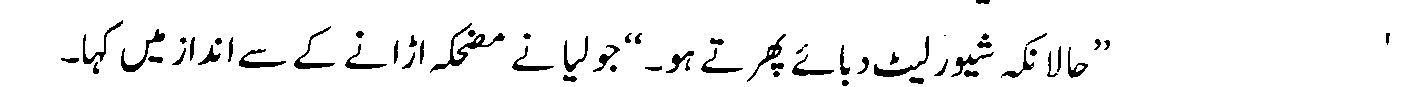bay_shosha: (838, 63, 852, 85)
